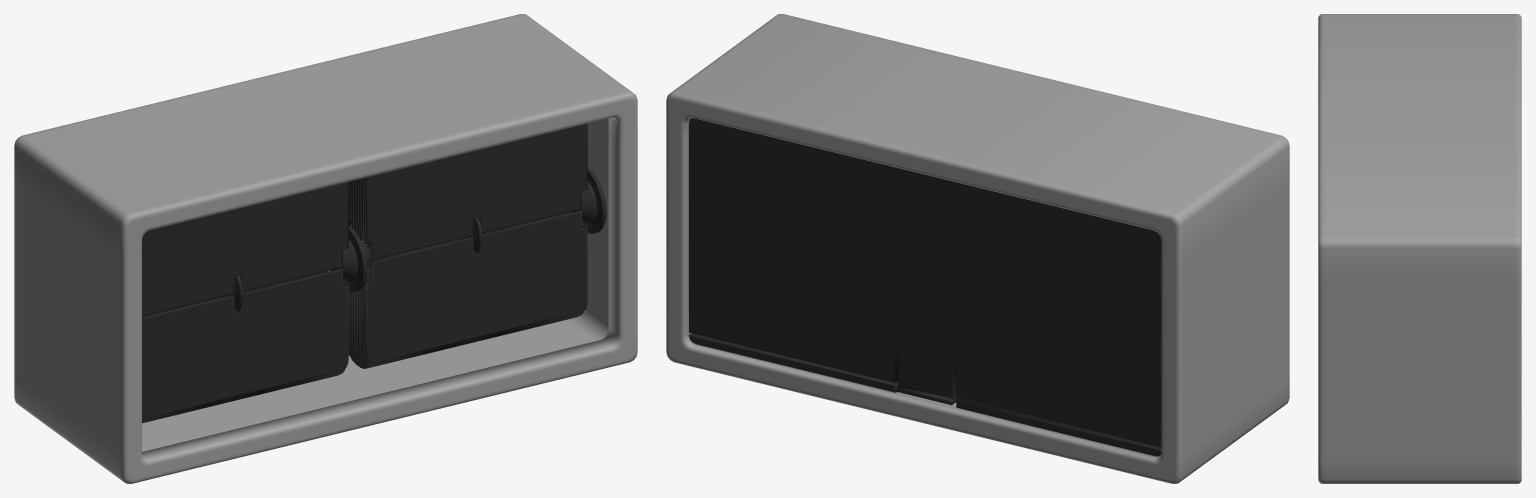
Rendered from Orologio.fbx.
3 renders of one model, left to right at view 1: azimuth 30°, elevation 25°; view 2: azimuth 150°, elevation 25°; view 3: azimuth 270°, elevation 25°, orthographic. The views are drawn at different scales.
Visible parts, largest first — view 1: alarm_clock, guts; view 2: alarm_clock, guts; view 3: alarm_clock.
Boxes of the visible parts, x1=… form: alarm_clock: x1=14, y1=14, x2=637, y2=483; guts: x1=142, y1=123, x2=606, y2=423; alarm_clock: x1=666, y1=14, x2=1289, y2=483; guts: x1=689, y1=118, x2=1161, y2=456; alarm_clock: x1=1318, y1=14, x2=1521, y2=483.
Bounding box in the file's own units: 18.94 × 9.47 × 7.1.
2 materials, 1 textured.
